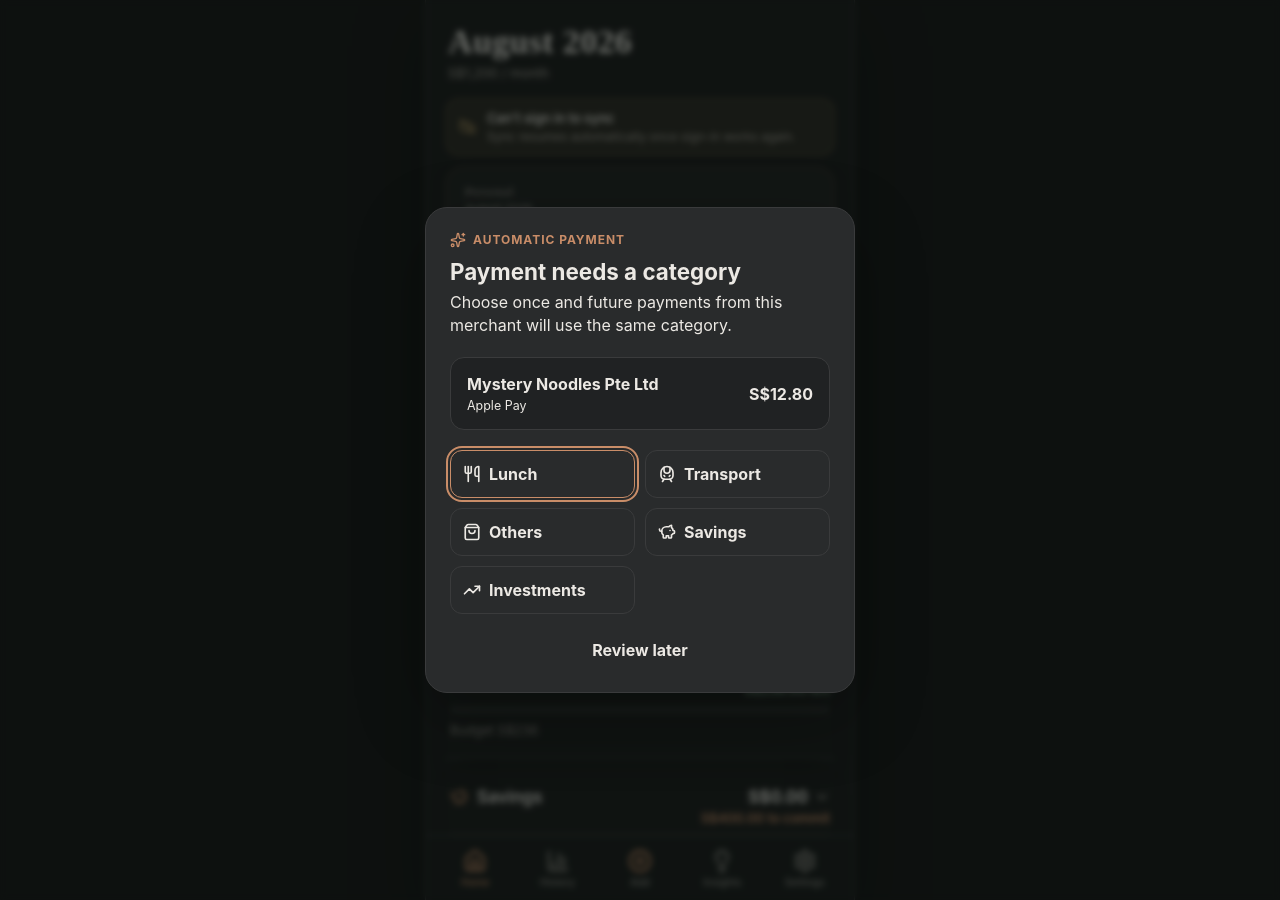
Test case: App › opens payment review on PWA entry and categorizes an Apple Pay capture in place
Check: the dialog "Payment needs a category" is shown, box [425, 207, 855, 693]
Click the button "Lunch" at (542, 474), box [450, 450, 635, 498]
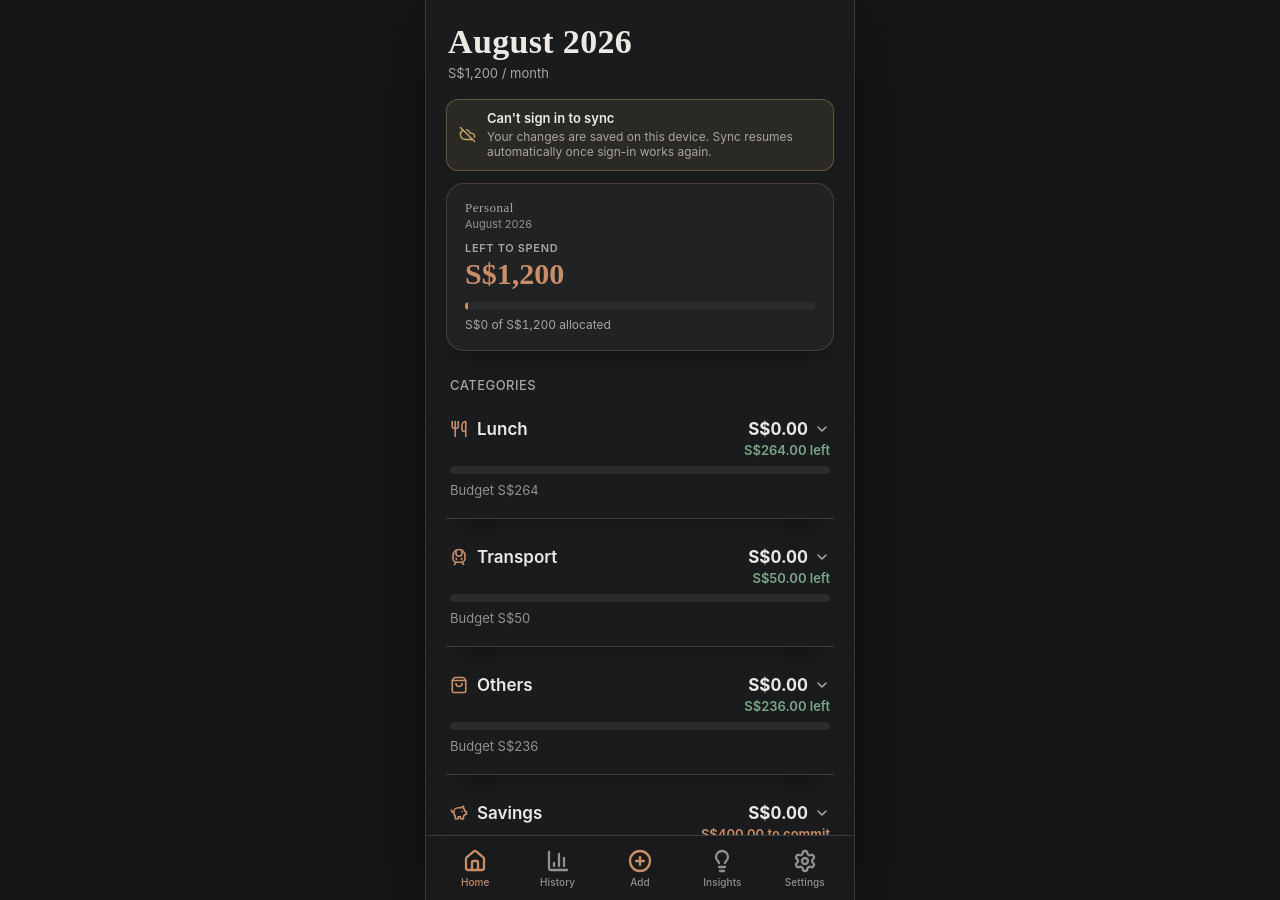
Check: the dialog is gone
